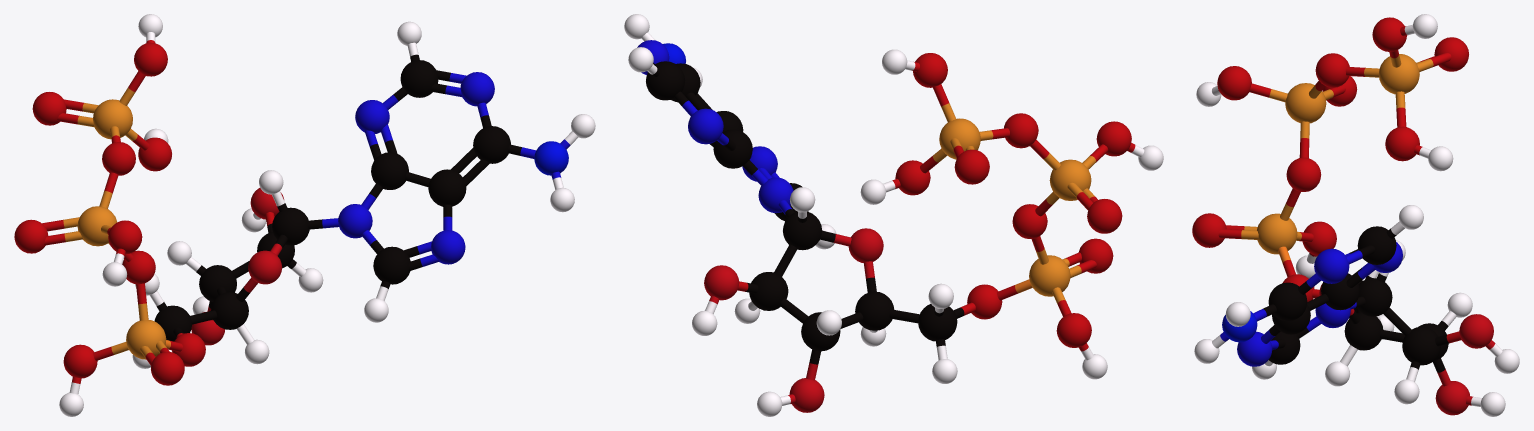
File: atp.glb
3 views of the same model, side by side, from view 1: azimuth 30°, elevation 25°; view 2: azimuth 150°, elevation 25°; view 3: azimuth 270°, elevation 25° (orthographic). The views are drawn at different scales.
Parts seen in each view (by area): view 1: Shape_IndexedFaceSet.022_nitrogen_0; view 2: Shape_IndexedFaceSet.022_nitrogen_0; view 3: Shape_IndexedFaceSet.022_nitrogen_0.
Boxes of the visible parts, box(x1,y1,x2,y2) form: Shape_IndexedFaceSet.022_nitrogen_0: box(14, 14, 595, 416); Shape_IndexedFaceSet.022_nitrogen_0: box(624, 14, 1163, 416); Shape_IndexedFaceSet.022_nitrogen_0: box(1192, 14, 1519, 416).
Size of the model in its own units: 136 by 87.61 by 71.6.
Materials: 1 (1 with a texture image).
